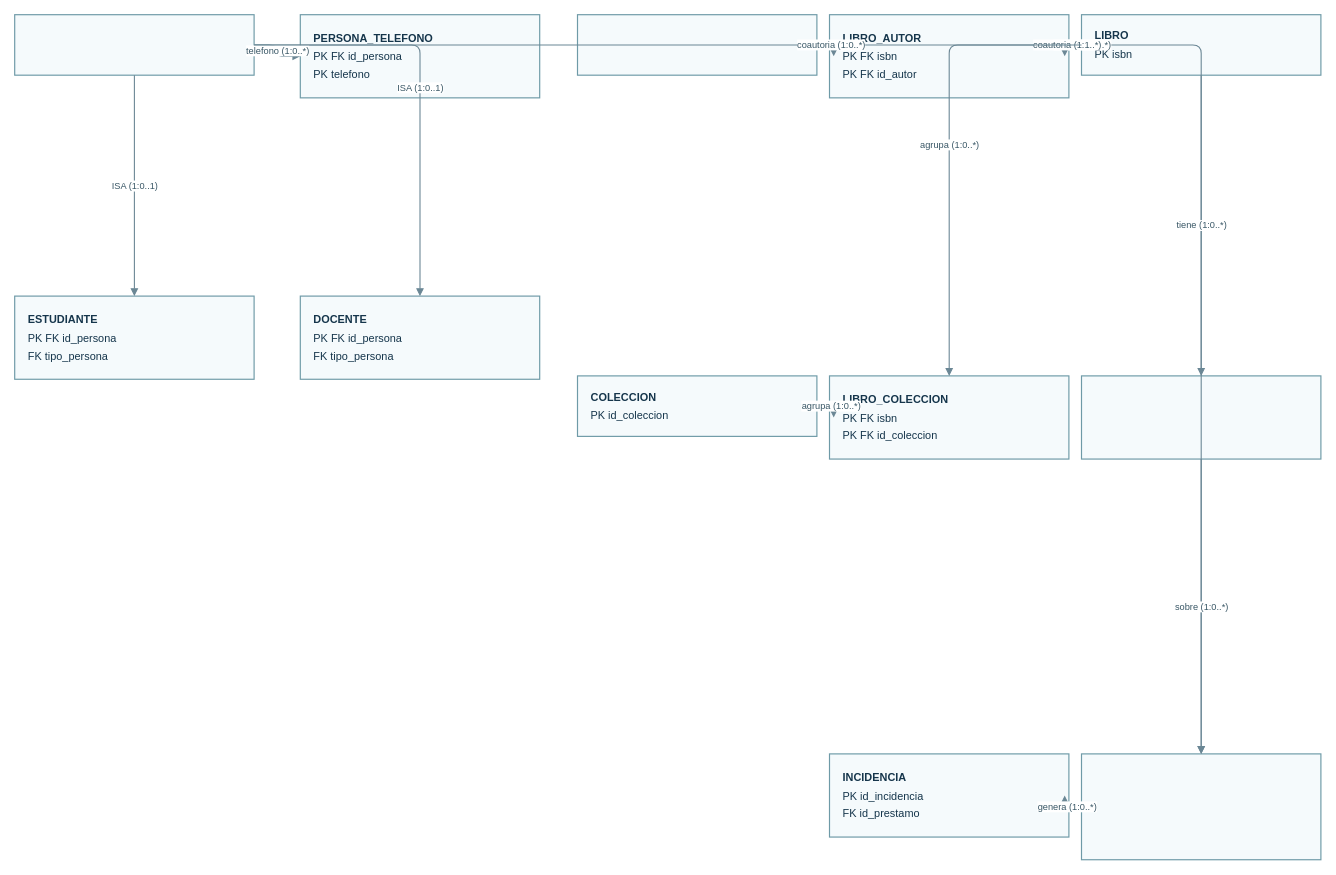
Image size: 1336x875. Some labels were removed from this diagram. Here are the shapes that lost their labels. From the top down, the box of each, then its label:
(14, 14, 254, 75): PERSONA PK id_persona
(576, 14, 817, 75): AUTOR PK id_autor
(1080, 375, 1321, 459): EJEMPLAR PK id_ejemplar FK isbn
(1080, 753, 1321, 860): PRESTAMO PK id_prestamo FK id_persona FK id_ejemplar
